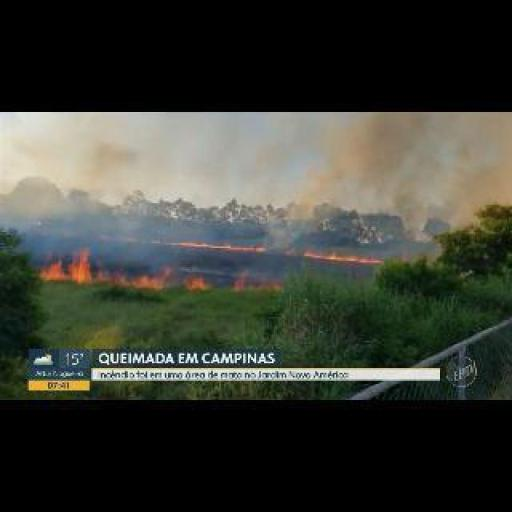smoke: (37, 250, 173, 290), (171, 238, 264, 252), (302, 250, 380, 262), (182, 274, 208, 291)
